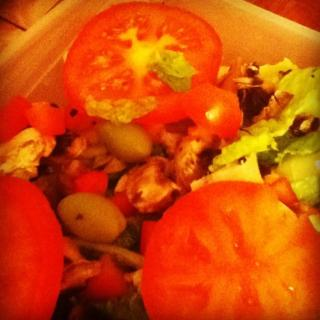tomato: (143, 178, 320, 319), (60, 10, 225, 125)
